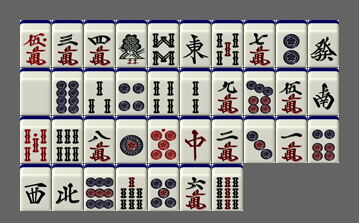0m: (20, 20, 51, 67)
0p: (148, 116, 179, 163)
0s: (20, 116, 51, 163)
1m: (276, 116, 307, 163)
1p: (116, 116, 147, 163)
1s: (116, 20, 147, 67)
1z: (180, 20, 211, 67)
2m: (212, 116, 243, 163)
2p: (276, 20, 307, 67)
2s: (180, 68, 211, 115)
2z: (308, 68, 339, 115)
3m: (52, 20, 83, 67)
3p: (244, 116, 275, 163)
3s: (84, 68, 115, 115)
3z: (20, 164, 51, 211)
4m: (84, 20, 115, 67)
4p: (116, 68, 147, 115)
4s: (148, 68, 179, 115)
4z: (52, 164, 83, 211)
5m: (276, 68, 307, 115)
5p: (148, 164, 179, 211)
5s: (212, 20, 243, 67)
5z: (20, 68, 51, 115)
6m: (180, 164, 211, 211)
6p: (308, 116, 339, 163)
6s: (52, 116, 83, 163)
6z: (308, 20, 339, 67)
7m: (244, 20, 275, 67)
7p: (244, 68, 275, 115)
7s: (116, 164, 147, 211)
7z: (180, 116, 211, 163)
8m: (84, 116, 115, 163)
8p: (52, 68, 83, 115)
8s: (148, 20, 179, 67)
9m: (212, 68, 243, 115)
9p: (84, 164, 115, 211)
9s: (212, 164, 243, 211)
